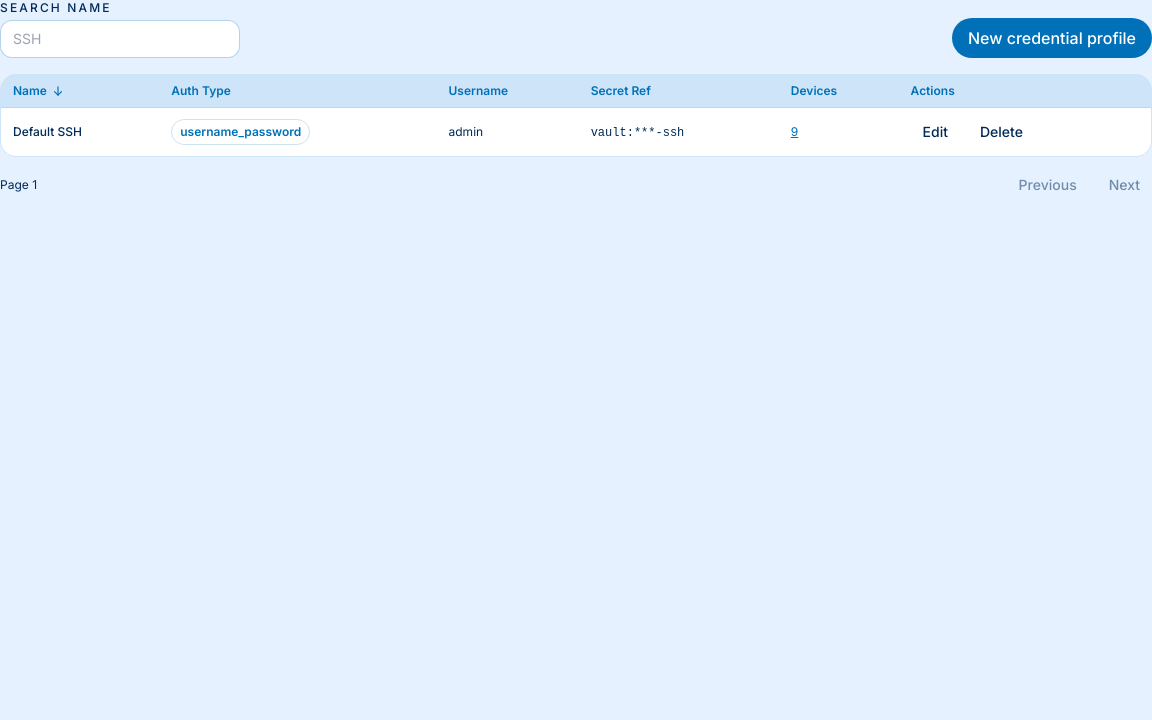
Admin pages › opens a read-only credential quick-view and exposes no Test action
Click the text "Default SSH" at (48, 132), box [13,124,82,139]
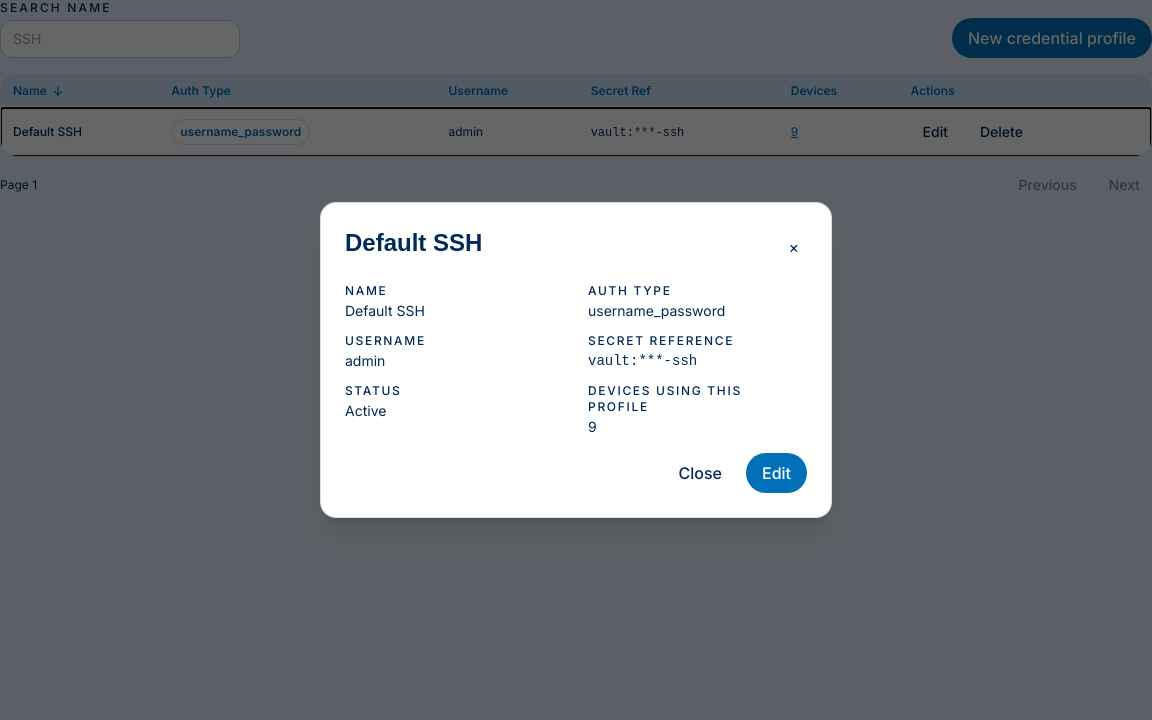
Expected: the text "Secret reference" is shown, [588,333,734,348]
Expected: the text "Auth type" is shown, [588,283,672,298]
